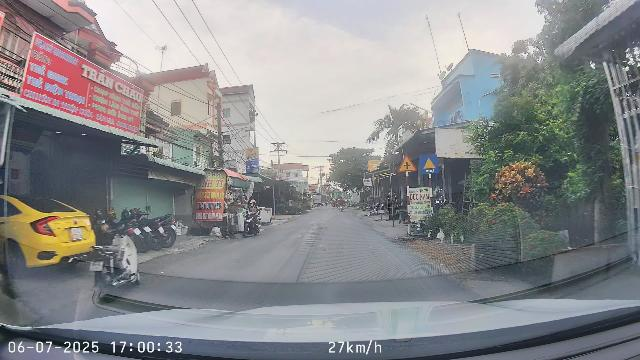442-cho: (419, 155, 439, 174)
